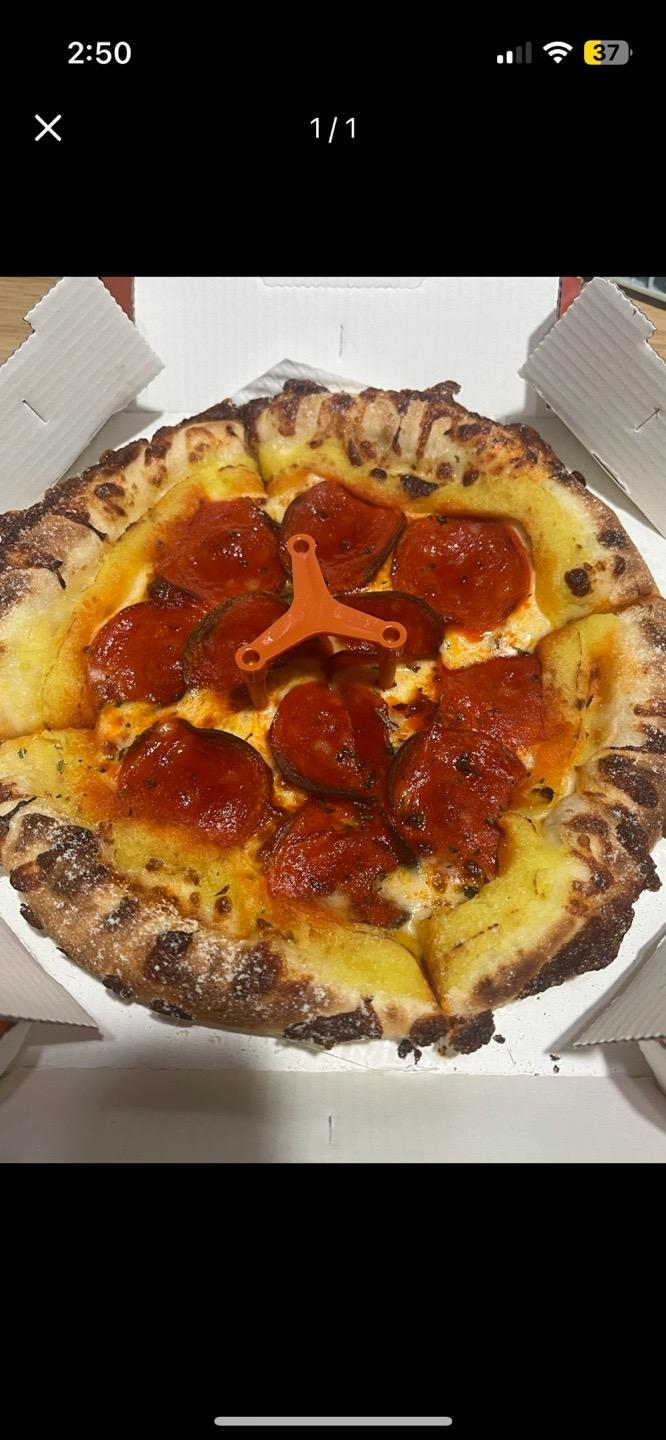Lunch Box: (0, 276, 665, 1168)
